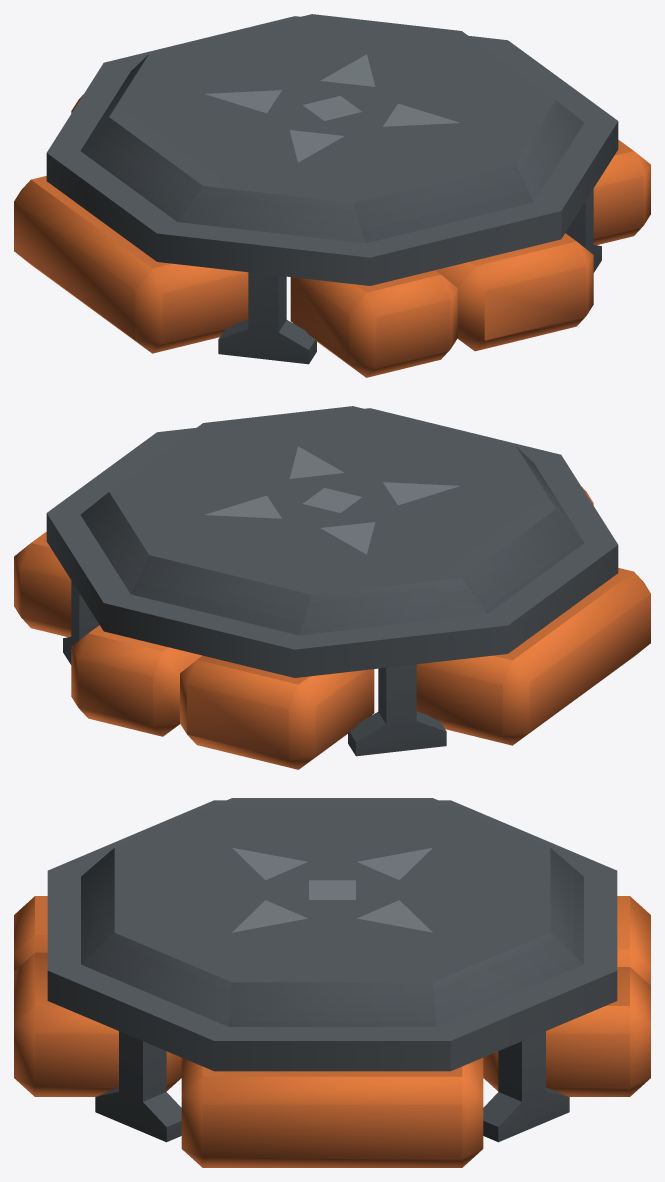
The model's file is landing-pad.glb.
3 renders of one model, top to bottom at view 1: azimuth 30°, elevation 25°; view 2: azimuth 150°, elevation 25°; view 3: azimuth 270°, elevation 25°, orthographic. The views are drawn at different scales.
Parts seen in each view (by area): view 1: landingpad_small; view 2: landingpad_small; view 3: landingpad_small.
Part boxes in pixels (left/top/right/bottom): landingpad_small: left=14, top=14, right=650, bottom=377; landingpad_small: left=14, top=406, right=650, bottom=769; landingpad_small: left=14, top=798, right=650, bottom=1167.
Bounding box in the file's own units: 10 × 2.63 × 10.
1 material, 1 textured.
